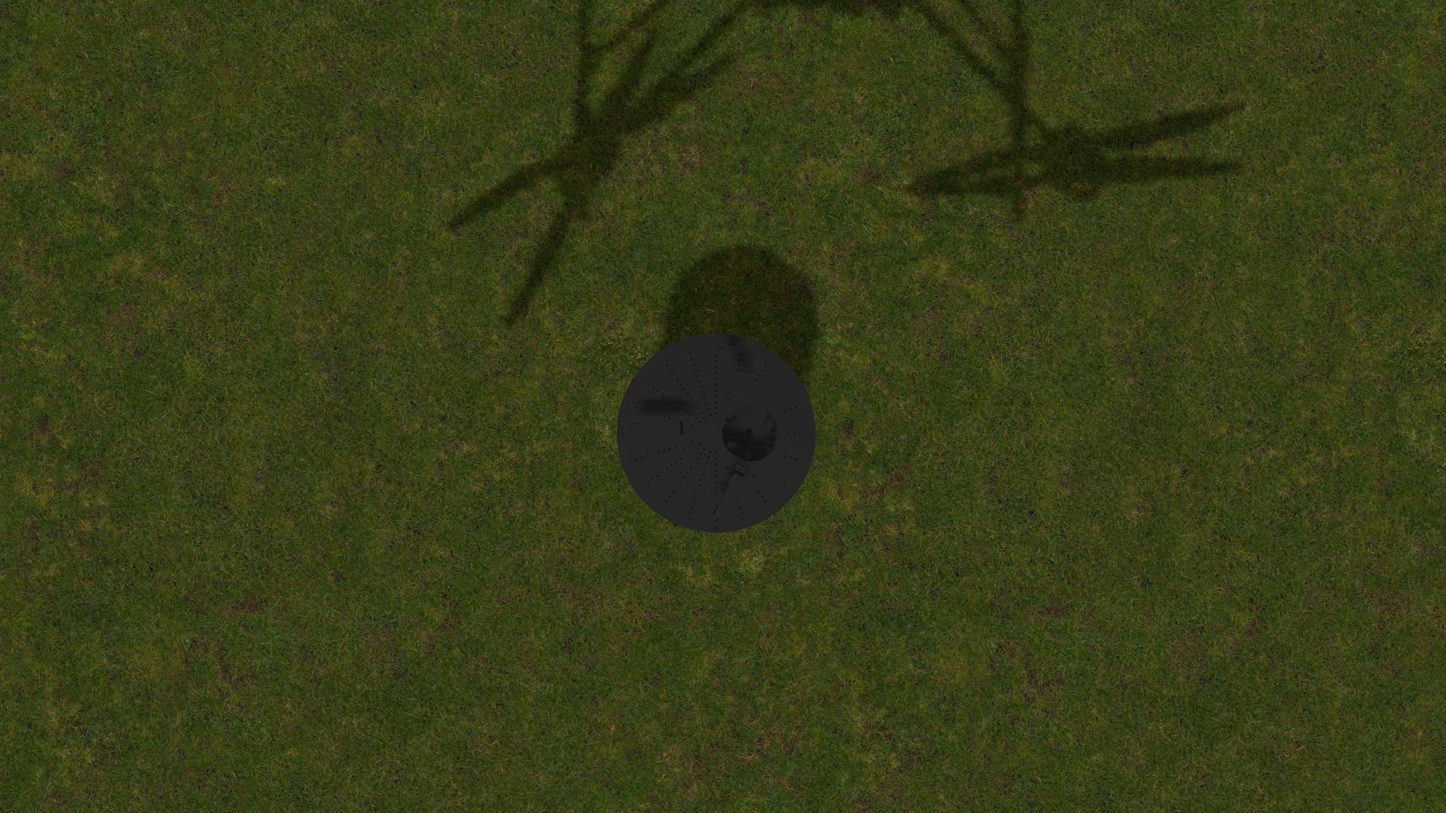alca: (710, 463, 747, 524), (712, 340, 748, 401), (626, 422, 690, 437)
armadilha: (616, 333, 816, 533)
